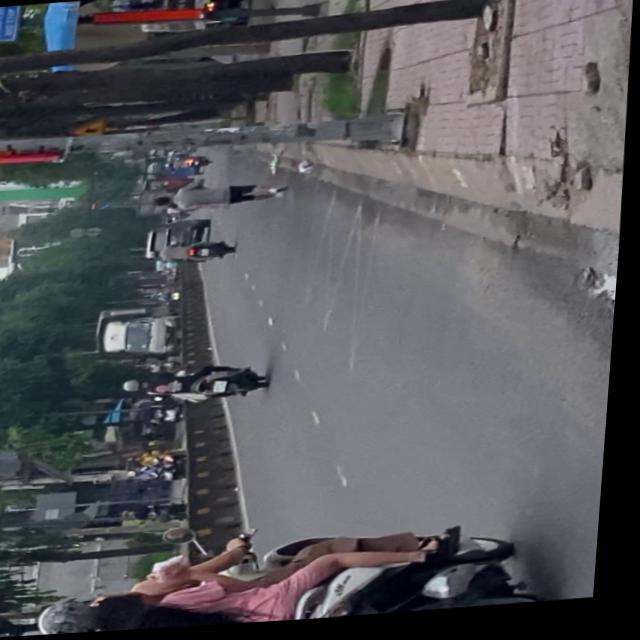helmet: (44, 595, 122, 636)
licenseplate: (40, 517, 572, 636)
motorcyclist: (94, 590, 187, 634)
